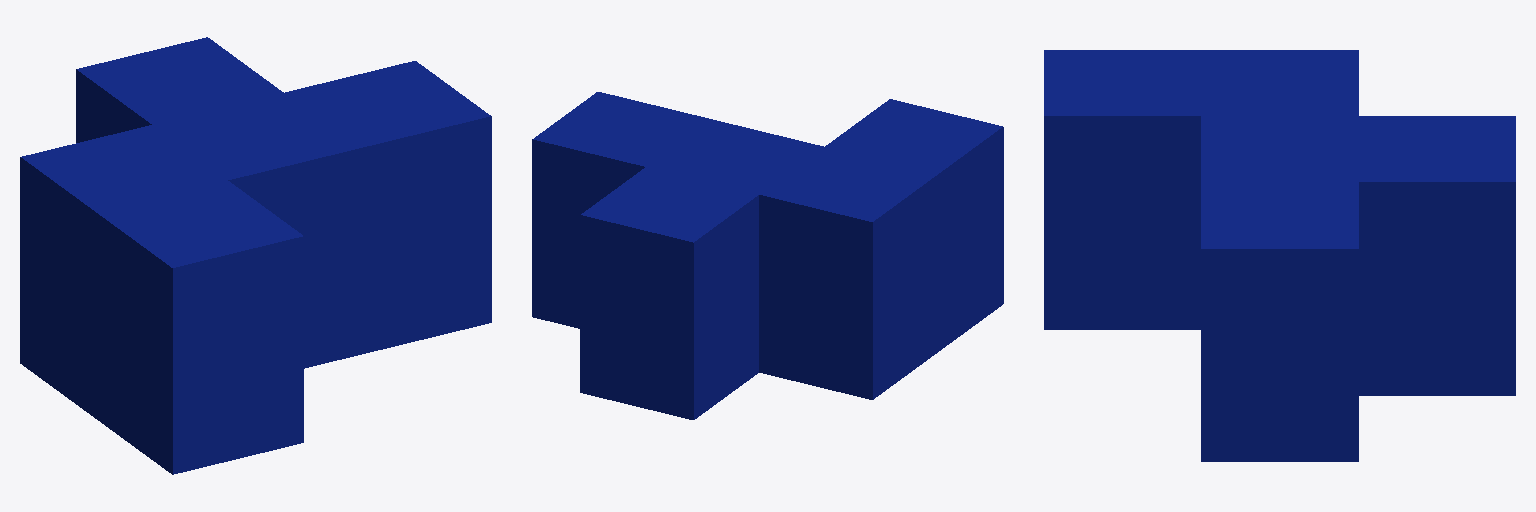
robot.urdf — block:
<robot name="block">
  <link name="block_base_link">

    <inertial>
      <origin rpy="0 0 0" xyz="0.046 -0.050 0.015"/>
      <mass value="0.05"/>
      <inertia ixx="1.61e-05" ixy="4.8e-06" ixz="0.0" iyy="1.994e-05" iyz="0.0" izz="2.704e-05"/>
    </inertial>
    <collision>
      
      <geometry>
        <mesh filename="13.STL" scale="1 1 1"/>
      </geometry>
    </collision>
    <visual>
 
      <geometry>
        <mesh filename="13.STL" scale="1 1 1"/>
      </geometry>
      <material name="tray_material">
        <color rgba="0.1 0.2 0.6 1"/>
      </material>
    </visual>
  </link>
</robot>

--- Render facts (derived) ---
The picture shows the robot from 3 angles, left to right: view 1: azimuth 30°, elevation 25°; view 2: azimuth 150°, elevation 25°; view 3: azimuth 270°, elevation 25°; orthographic projection.
Robot: block — 1 links, 0 joints (none); root link block_base_link; default pose: every joint at zero.
Links seen in each view (by area): view 1: block_base_link; view 2: block_base_link; view 3: block_base_link.
Link boxes in pixels (x1,y1,x2,y2): block_base_link: (20,37,491,474); block_base_link: (532,92,1003,419); block_base_link: (1044,50,1515,461).
Bounding box of the posed robot: 0.06 × 0.06 × 0.03 m (x, y, z).
1 mesh visuals loaded from 1 distinct referenced files (1 binary STL).